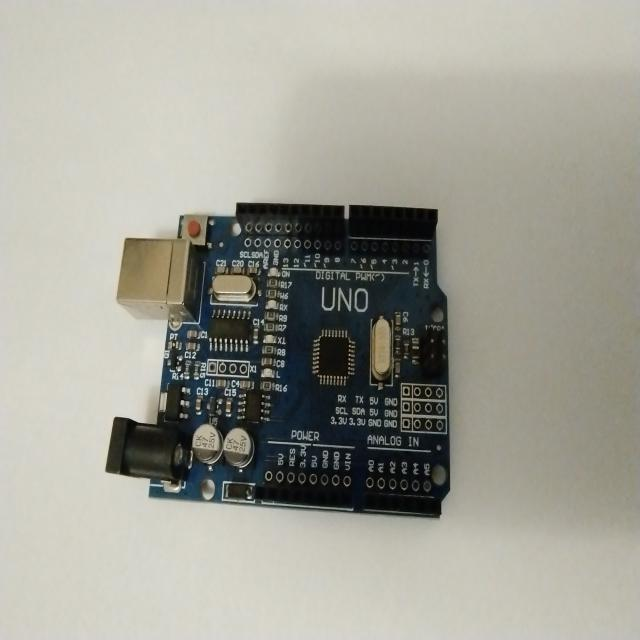arduino: (113, 195, 460, 526)
